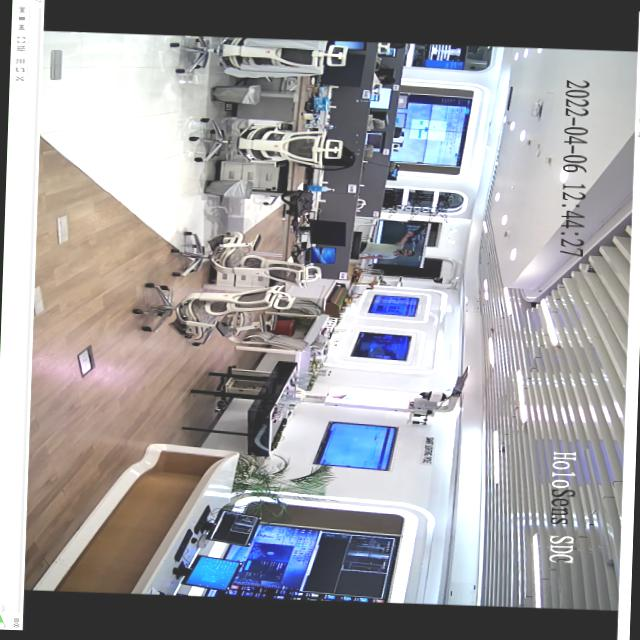long weapon: (399, 222, 429, 244)
